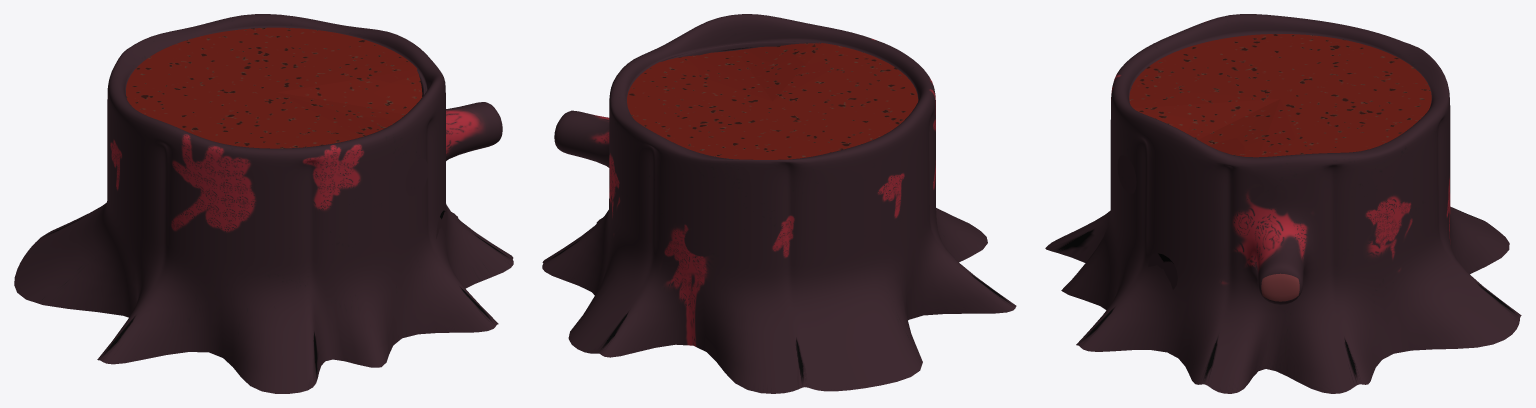
The model's file is Stump.fbx.
3 views of the same model, side by side, from view 1: azimuth 30°, elevation 25°; view 2: azimuth 150°, elevation 25°; view 3: azimuth 270°, elevation 25° (orthographic). The views are drawn at different scales.
Parts seen in each view (by area): view 1: Stump; view 2: Stump; view 3: Stump.
Part boxes in pixels (x1,y1,x2,y2): Stump: (14,14,513,393); Stump: (542,14,1016,393); Stump: (1045,14,1521,393).
Bounding box in the file's own units: 291 × 139 × 277.
